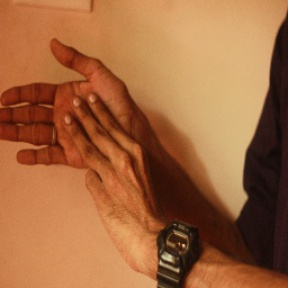M: (2, 32, 146, 195)
